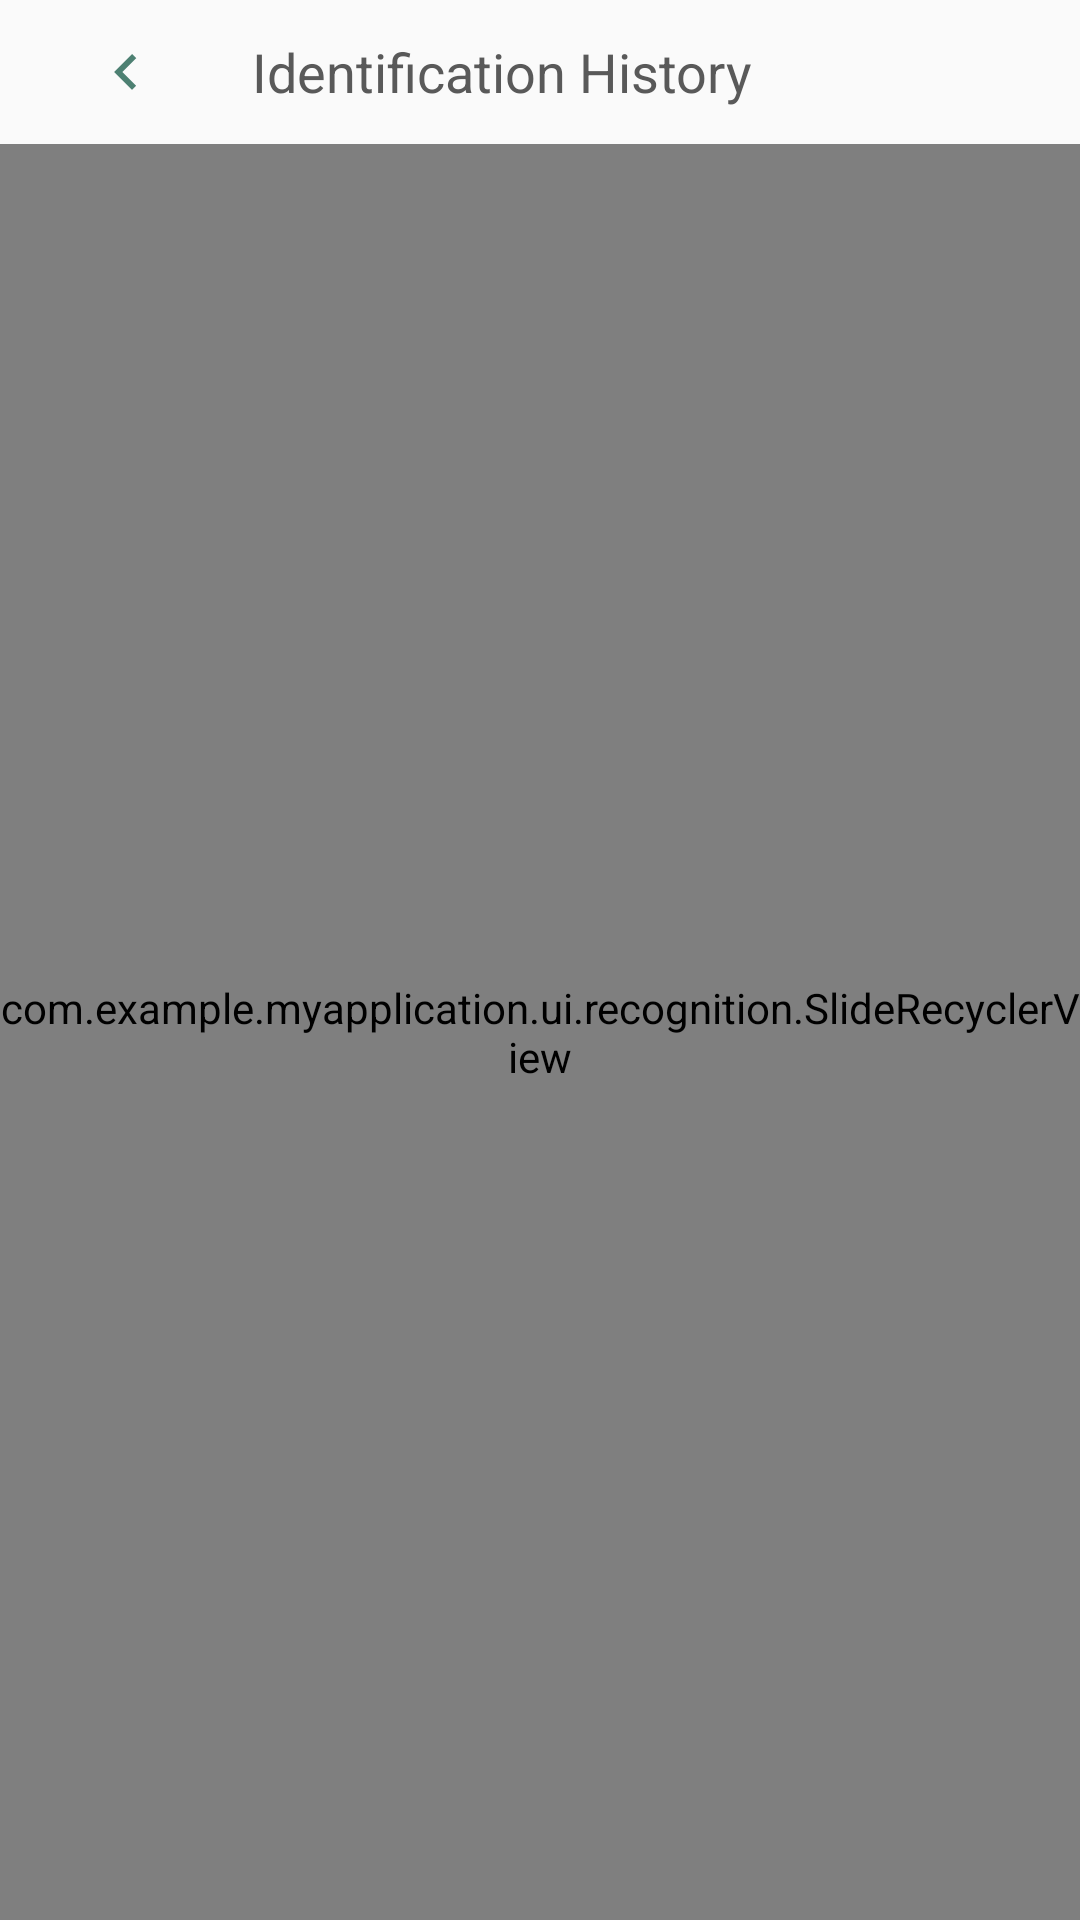

Screen size 1080x1920. Icon name, then its box in pixels as (x1, y1, x2, y2):
keyboard arrow left: (114, 54, 136, 90)
